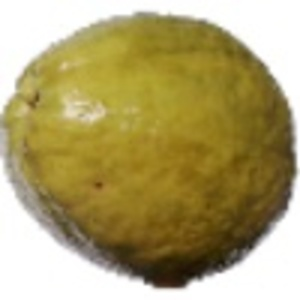goiaba: (3, 3, 297, 287)
